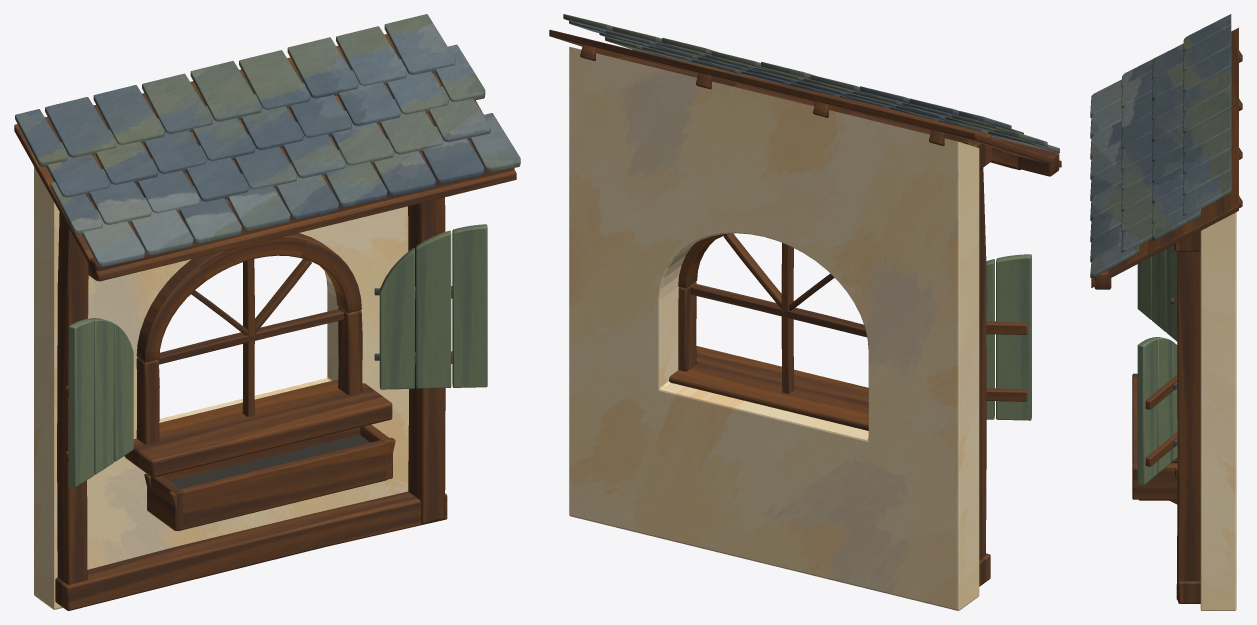
Rendered from CM_WindowBay01_Painted_v02.fbx.
The picture shows the model from 3 angles, left to right: view 1: azimuth 30°, elevation 25°; view 2: azimuth 150°, elevation 25°; view 3: azimuth 270°, elevation 25°; orthographic projection. The views are drawn at different scales.
Visible parts, largest first — view 1: 01_Plaster_Wall_3m_ThroughOpening, 04_Lower_Storey_Rail, 02_Window_Deep_Projecting_Sill, 05_Planter_Front, 04_Right_Edge_Post, 06_Eave_Solid_Roof_Boarding, 02_Window_CurvedArch_Frame, 04_Left_Structural_Post, 03_Shutter_L_Plank_00, 03_Shutter_L_Plank_01, 03_Shutter_L_Plank_02, 03_Shutter_R_Plank_00 (+47 smaller); view 2: 01_Plaster_Wall_3m_ThroughOpening, 02_Window_Deep_Projecting_Sill, 03_Shutter_R_Plank_00, 06_Eave_Solid_Roof_Boarding, 04_Right_Edge_Post, 04_Upper_Tie_Beam, 02_Window_Spring_Transom, 02_Window_Centre_Mullion, 02_Window_Jamb_-1, 03_Shutter_R_Plank_01, 06_Eave_Fascia, 02_Window_CurvedArch_Frame (+2 smaller); view 3: 01_Plaster_Wall_3m_ThroughOpening, 04_Left_Structural_Post, 06_Eave_Solid_Roof_Boarding, 03_Shutter_L_Plank_00, 03_Shutter_L_Plank_01, 05_Planter_End_-1, 03_Shutter_R_Plank_01, 06_Slate_Course03_Tile00, 06_Slate_Course03_Tile04, 06_Slate_Course03_Tile02, 03_Shutter_R_Plank_02, 06_Slate_Course03_Tile06 (+40 smaller).
Part boxes in pixels (box(x1,y1,x2,y2)): 01_Plaster_Wall_3m_ThroughOpening: box(34, 166, 408, 609); 04_Lower_Storey_Rail: box(55, 491, 447, 610); 02_Window_Deep_Projecting_Sill: box(124, 379, 392, 477); 05_Planter_Front: box(168, 437, 395, 530); 04_Right_Edge_Post: box(57, 212, 88, 584); 06_Eave_Solid_Roof_Boarding: box(14, 34, 516, 281); 02_Window_CurvedArch_Frame: box(136, 233, 361, 362); 04_Left_Structural_Post: box(408, 197, 445, 523); 03_Shutter_L_Plank_00: box(452, 224, 487, 387); 03_Shutter_L_Plank_01: box(416, 230, 451, 388); 03_Shutter_L_Plank_02: box(379, 248, 414, 389); 03_Shutter_R_Plank_00: box(68, 319, 93, 487); 01_Plaster_Wall_3m_ThroughOpening: box(569, 46, 979, 610); 02_Window_Deep_Projecting_Sill: box(669, 346, 868, 430); 03_Shutter_R_Plank_00: box(996, 254, 1031, 420); 06_Eave_Solid_Roof_Boarding: box(549, 29, 1061, 167); 04_Right_Edge_Post: box(963, 141, 986, 559); 04_Upper_Tie_Beam: box(622, 52, 991, 169); 02_Window_Spring_Transom: box(690, 284, 866, 337); 02_Window_Centre_Mullion: box(781, 243, 794, 393); 02_Window_Jamb_-1: box(678, 282, 696, 371); 03_Shutter_R_Plank_01: box(986, 259, 994, 419); 06_Eave_Fascia: box(632, 49, 1059, 176); 02_Window_CurvedArch_Frame: box(678, 233, 729, 288); 01_Plaster_Wall_3m_ThroughOpening: box(1200, 212, 1236, 610); 04_Left_Structural_Post: box(1176, 251, 1200, 600); 06_Eave_Solid_Roof_Boarding: box(1091, 27, 1238, 287); 03_Shutter_L_Plank_00: box(1137, 338, 1157, 485); 03_Shutter_L_Plank_01: box(1152, 337, 1171, 473); 05_Planter_End_-1: box(1132, 463, 1177, 499); 03_Shutter_R_Plank_01: box(1152, 249, 1166, 331); 06_Slate_Course03_Tile00: box(1183, 171, 1231, 215); 06_Slate_Course03_Tile04: box(1183, 88, 1231, 133); 06_Slate_Course03_Tile02: box(1183, 129, 1231, 174); 03_Shutter_R_Plank_02: box(1166, 245, 1177, 341); 06_Slate_Course03_Tile06: box(1183, 47, 1231, 92).
Size of the model in its own units: 3.36 by 3.66 by 1.19.
